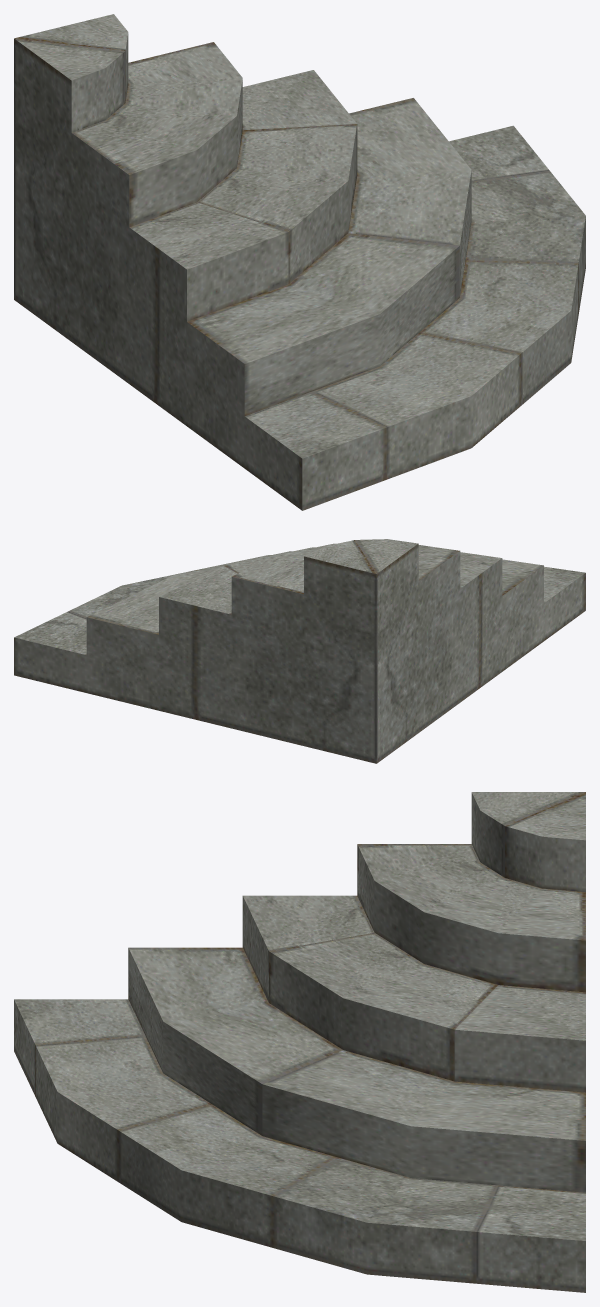
The model's file is steps_1x1_cnr.fbx.
3 renders of one model, top to bottom at view 1: azimuth 30°, elevation 25°; view 2: azimuth 150°, elevation 25°; view 3: azimuth 270°, elevation 25°, orthographic. The views are drawn at different scales.
Visible parts, largest first — view 1: steps_1x1_cnr; view 2: steps_1x1_cnr; view 3: steps_1x1_cnr.
Part boxes in pixels (left/top/right/bottom): steps_1x1_cnr: left=14, top=14, right=585, bottom=510; steps_1x1_cnr: left=14, top=539, right=585, bottom=763; steps_1x1_cnr: left=14, top=792, right=585, bottom=1292.
Size of the model in its own units: 100 by 50 by 100.
